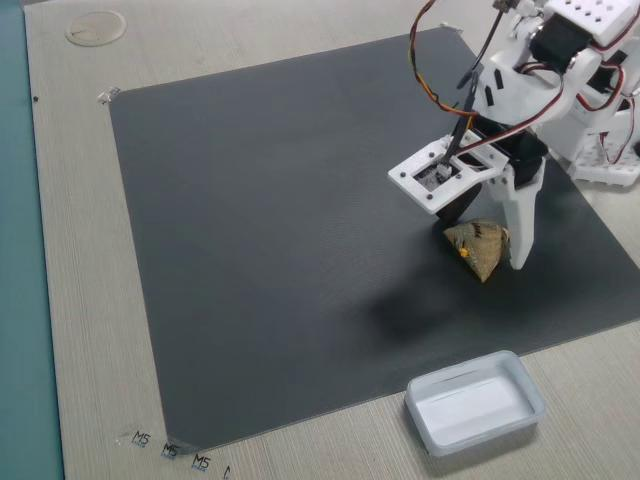objects: (414, 133, 547, 267)
